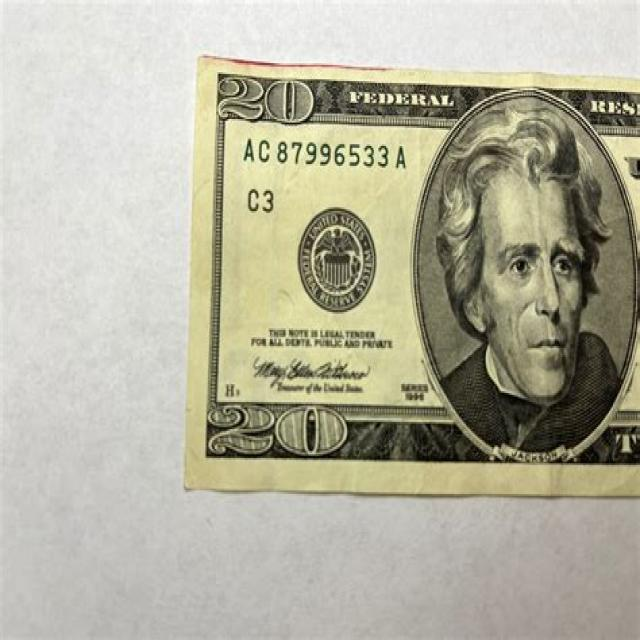Twenty: (185, 55, 640, 492)
